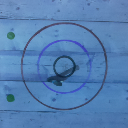Axe Tip: (55, 78, 62, 81)
